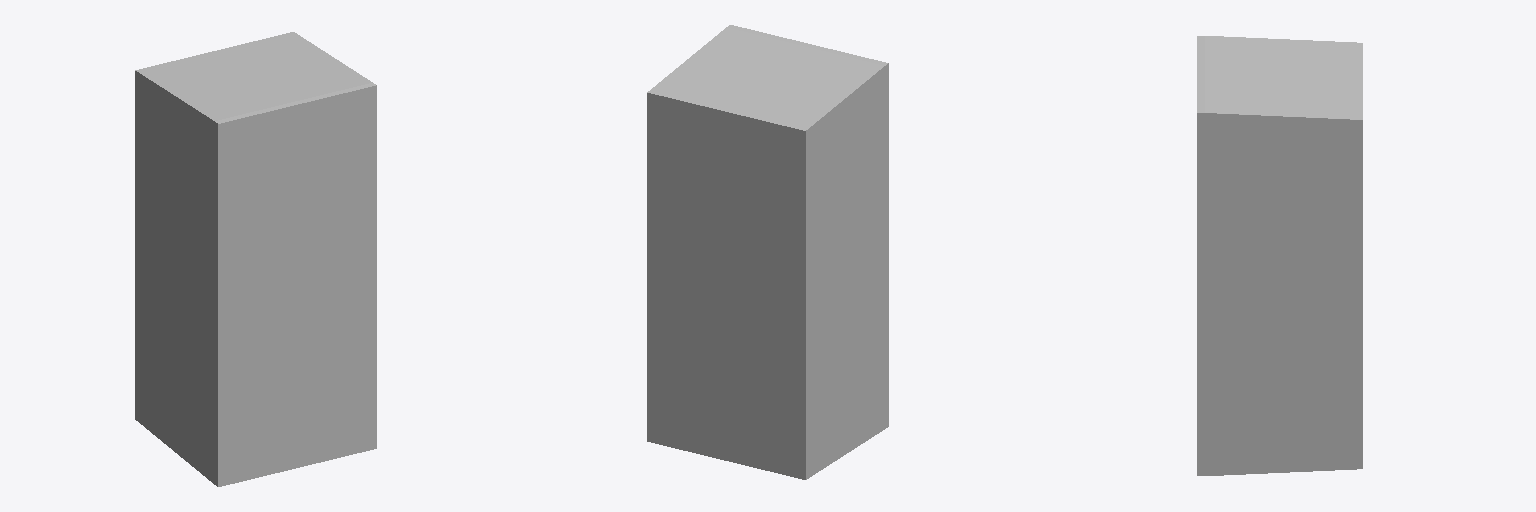
The model's file is table_ch.obj.
3 renders of one model, left to right at view 1: azimuth 30°, elevation 25°; view 2: azimuth 150°, elevation 25°; view 3: azimuth 270°, elevation 25°, orthographic.
Parts seen in each view (by area): view 1: table_ch; view 2: table_ch; view 3: table_ch.
Boxes of the visible parts, box(x1,y1,x2,y2) form: table_ch: box(135, 32, 376, 486); table_ch: box(647, 25, 888, 479); table_ch: box(1197, 36, 1362, 475).
Size of the model in its own units: 0.762 by 1.67 by 0.6921.